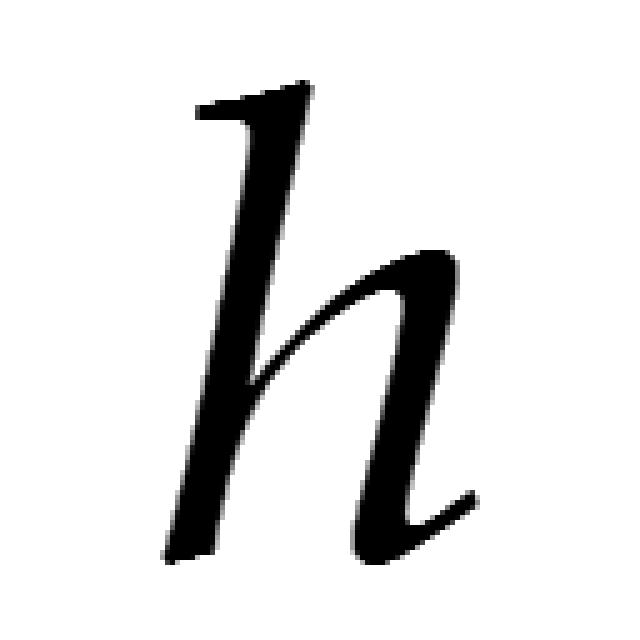H: (160, 80, 480, 570)
